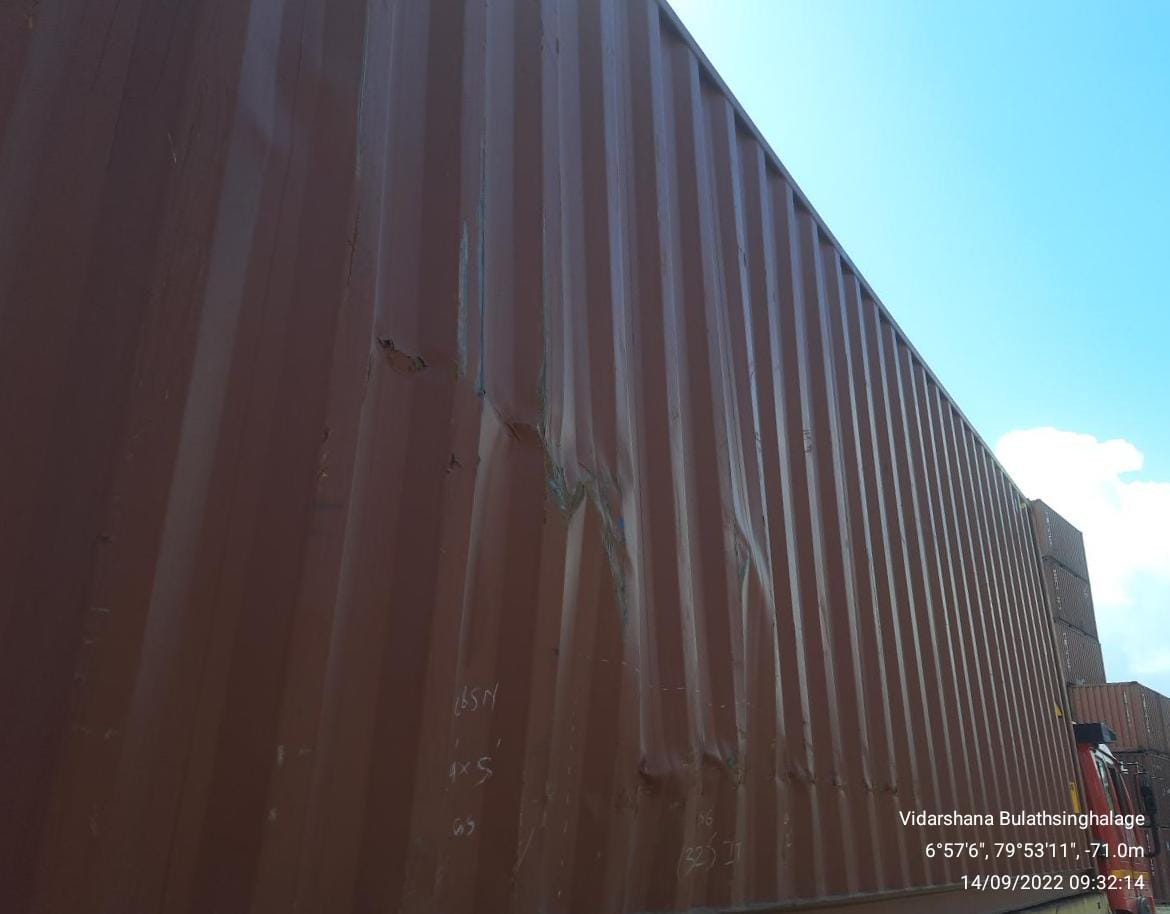dented: (591, 732, 918, 821), (500, 418, 662, 574), (719, 494, 824, 613), (365, 316, 461, 393)
